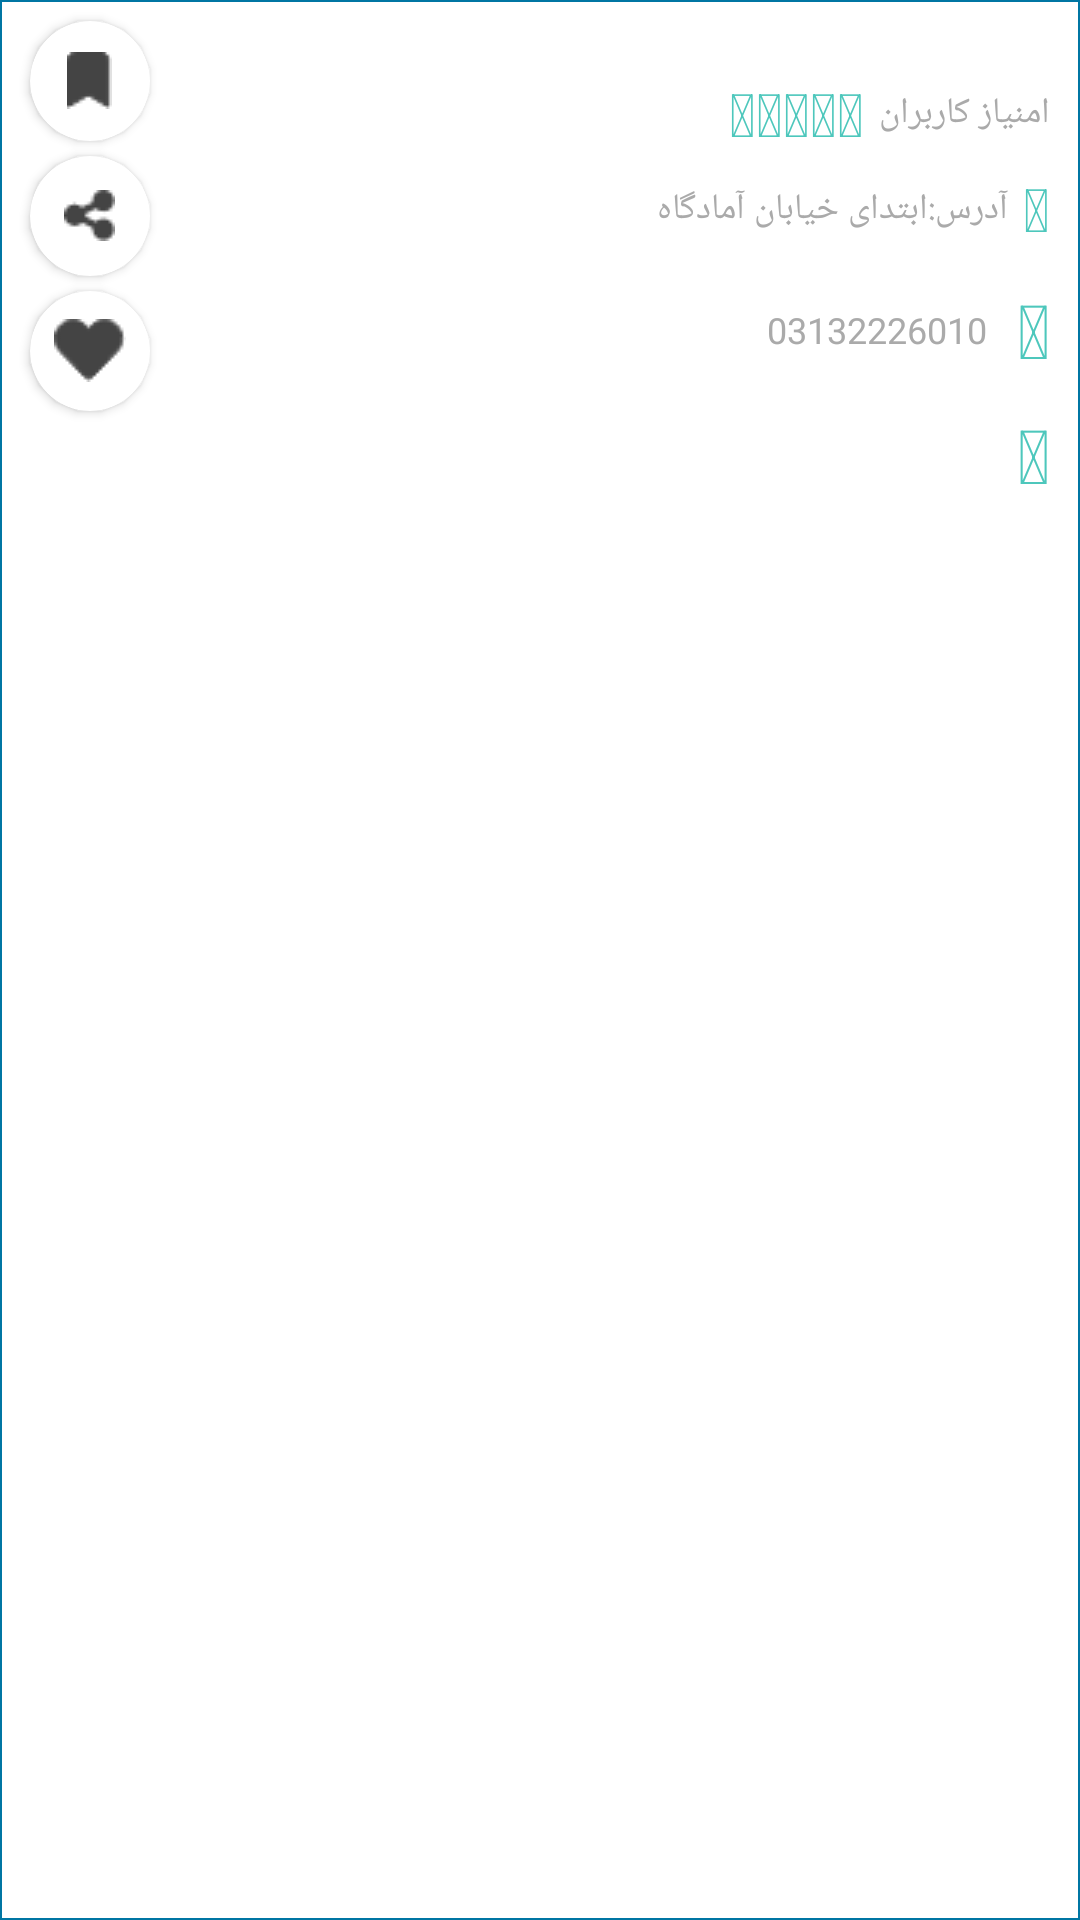

Icons on this 1080*1920 Android screen, each with the point to tap as [x,y]:
bookmark xd: [89,80]
heart xd: [89,350]
share xd: [89,215]
